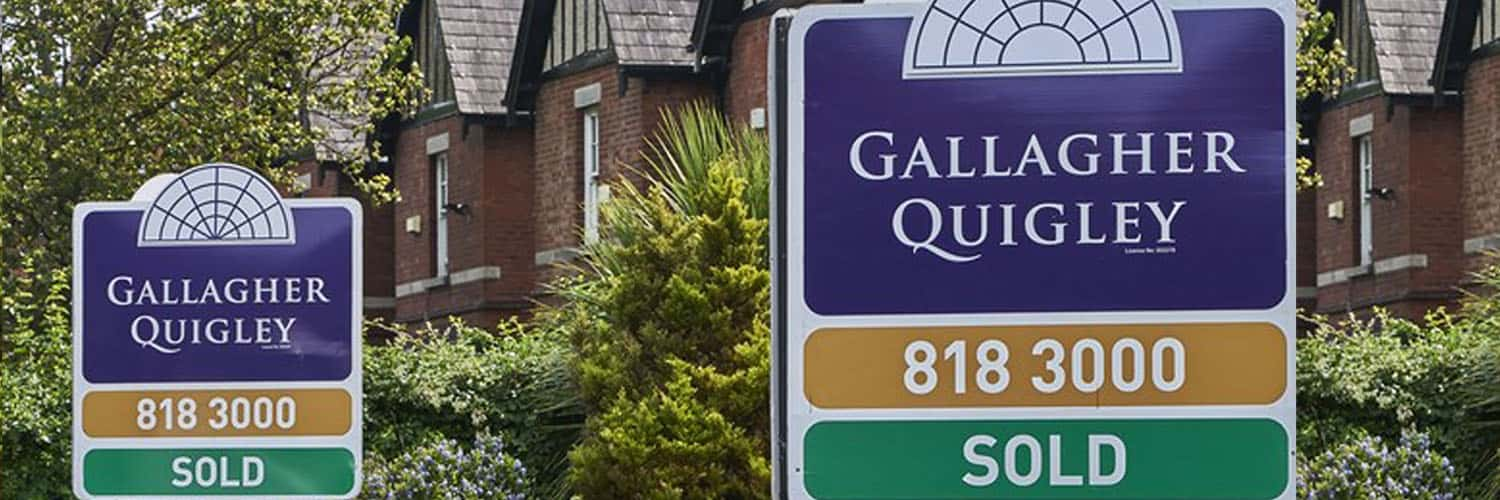property sign: (745, 6, 1345, 500), (42, 156, 399, 500)
